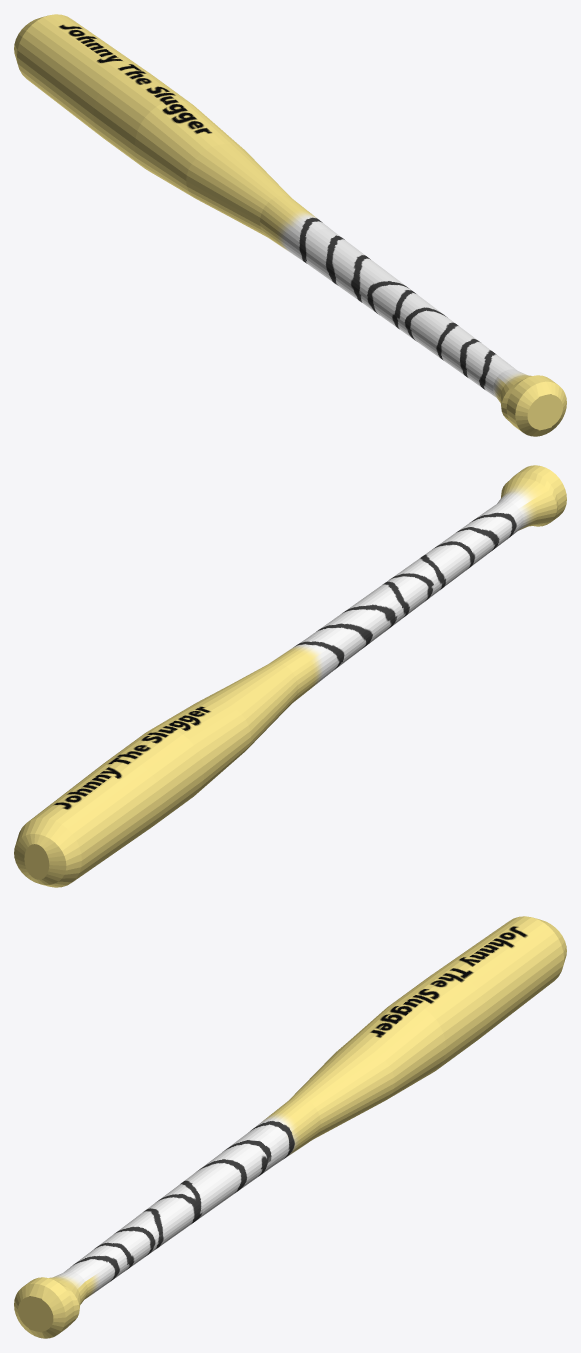
The model's file is Slugger.obj.
The picture shows the model from 3 angles, top to bottom: view 1: azimuth 30°, elevation 25°; view 2: azimuth 150°, elevation 25°; view 3: azimuth 330°, elevation 25°; orthographic projection.
Parts seen in each view (by area): view 1: Cube; view 2: Cube; view 3: Cube.
Boxes of the visible parts, <box> form: Cube: <box>14,14,566,436</box>; Cube: <box>14,465,566,887</box>; Cube: <box>14,916,566,1338</box>.
Bounding box in the file's own units: 0.304 × 0.304 × 3.86.
Materials: 1 (1 with a texture image).
